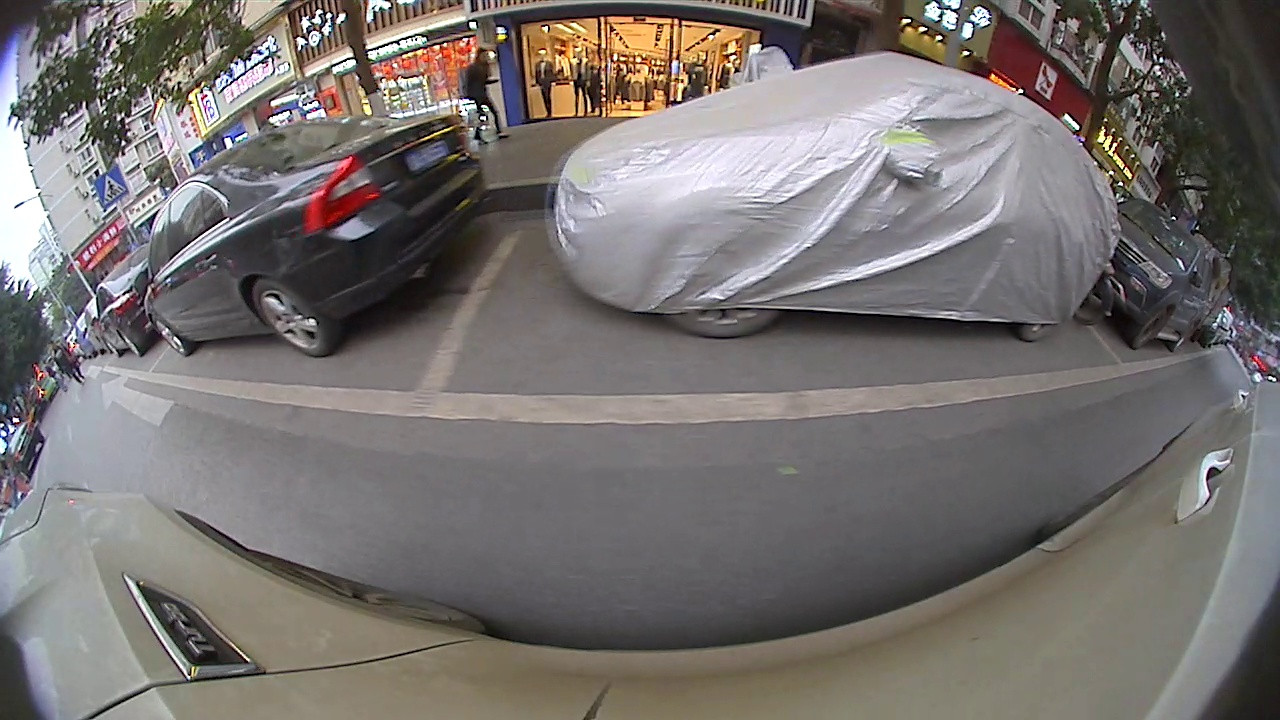car: (161, 3, 879, 371), (997, 205, 1167, 374), (52, 203, 177, 352)
front: (637, 245, 792, 369), (86, 314, 119, 353)
person: (941, 110, 1006, 226), (672, 16, 703, 103)
rear: (198, 263, 282, 349), (1086, 334, 1133, 373)
